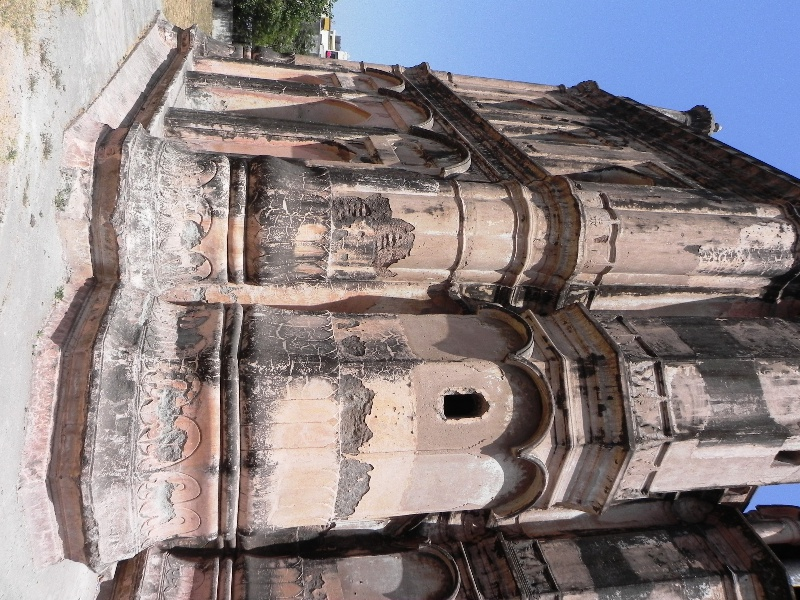Exposed Bricks: (337, 199, 372, 219), (377, 226, 401, 252)
Spalling: (338, 321, 376, 526)
